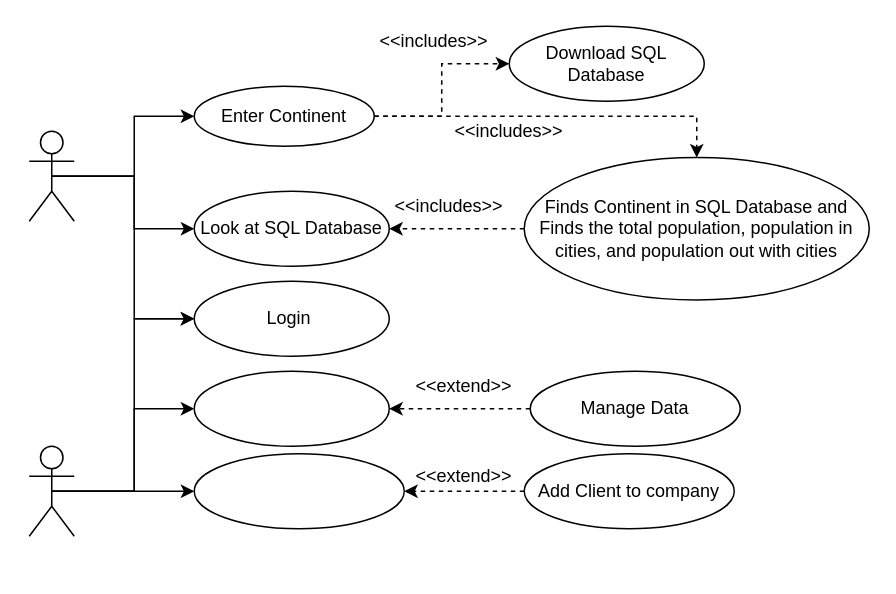
The diagram is 896 pixels wide and 594 high, and some of its shapes have lost their labels. The shapes that lost their labels are listed below. From the top down, each one's box as (x1, y1, x2, y2) in pixels, then its label:
(28, 130, 74, 221): User
(193, 370, 389, 446): Upload to SQL Data
(28, 445, 74, 536): Admin
(193, 452, 404, 529): Add User
